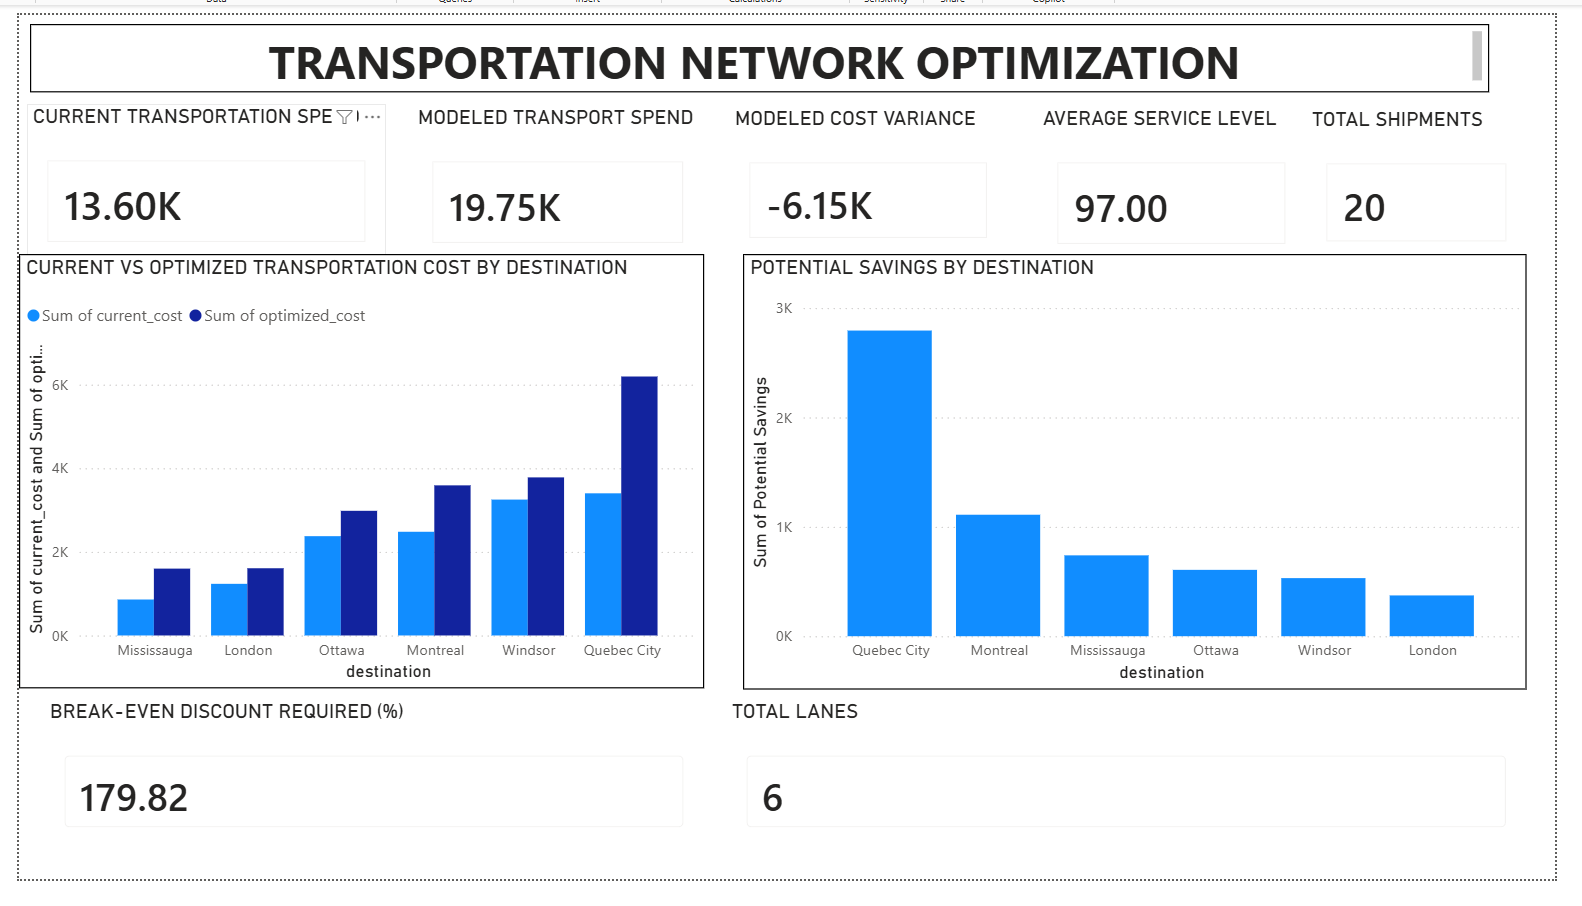

This screenshot's page, from the dashboard's own definition file:
{"tool":"powerbi","page":{"name":"Executive Dashboard","canvas":[1280,720],"ordinal":0},"visuals":[{"type":"cardVisual","title":"CURRENT TRANSPORTATION SPEND","fields":{"Data":["Sum(public vw_executive_network_summary.current_transportation_spend)"]},"box":[6.6,74.6,299.3,132.6],"z":0},{"type":"cardVisual","title":"MODELED TRANSPORT SPEND","fields":{"Data":["Sum(public vw_executive_network_summary.modeled_transportation_spend)"]},"box":[327.9,74.7,243.7,132.6],"z":1000},{"type":"cardVisual","title":"MODELED COST VARIANCE","fields":{"Data":["Sum(public vw_executive_network_summary.modeled_cost_variance)"]},"box":[592.1,75.7,233,127.7],"z":2000},{"type":"cardVisual","title":"AVERAGE SERVICE LEVEL","fields":{"Data":["Sum(public vw_executive_network_summary.average_service_level_percent)"]},"box":[848.5,75.7,224.2,132.6],"z":3000},{"type":"cardVisual","title":"TOTAL SHIPMENTS","fields":{"Data":["Sum(public vw_executive_network_summary.total_shipments)"]},"box":[1072.7,76.6,184.2,129.7],"z":4000},{"type":"textbox","box":[8.9,7.8,1215.6,56.7],"z":5000},{"type":"clusteredColumnChart","title":"CURRENT VS OPTIMIZED TRANSPORTATION COST BY DESTINATION","fields":{"Category":["public vw_lane_optimization.destination"],"Y":["Sum(public vw_lane_optimization.current_cost)","Sum(public vw_lane_optimization.optimized_cost)"]},"box":[0,199.2,571.1,362.2],"z":5001},{"type":"clusteredColumnChart","title":"POTENTIAL SAVINGS BY DESTINATION","fields":{"Category":["public vw_lane_optimization.destination"],"Y":["Sum(public vw_lane_optimization.Potential Savings)"]},"box":[603.3,199.2,653.3,362.5],"z":5002},{"type":"cardVisual","title":"BREAK-EVEN DISCOUNT REQUIRED (%)","fields":{"Data":["Sum(public vw_lane_optimization.break_even_discount_percent)"]},"box":[21.1,570,550,124.4],"z":5003},{"type":"cardVisual","title":"TOTAL LANES","fields":{"Data":["Sum(public vw_executive_network_summary.total_lanes)"]},"box":[588.9,570,667.8,124.4],"z":5004}]}

Visuals, with their boxes in screenshot pixels (x1, y1, x2, y2):
"CURRENT TRANSPORTATION SPEND" cardVisual: <region>20, 95, 385, 257</region>
"MODELED TRANSPORT SPEND" cardVisual: <region>412, 95, 709, 257</region>
"MODELED COST VARIANCE" cardVisual: <region>734, 96, 1018, 252</region>
"AVERAGE SERVICE LEVEL" cardVisual: <region>1047, 96, 1320, 258</region>
"TOTAL SHIPMENTS" cardVisual: <region>1320, 97, 1544, 256</region>
textbox: <region>23, 14, 1505, 83</region>
"CURRENT VS OPTIMIZED TRANSPORTATION COST BY DESTINATION" clusteredColumnChart: <region>12, 247, 708, 688</region>
"POTENTIAL SAVINGS BY DESTINATION" clusteredColumnChart: <region>748, 247, 1544, 689</region>
"BREAK-EVEN DISCOUNT REQUIRED (%)" cardVisual: <region>38, 699, 708, 850</region>
"TOTAL LANES" cardVisual: <region>730, 699, 1544, 850</region>
